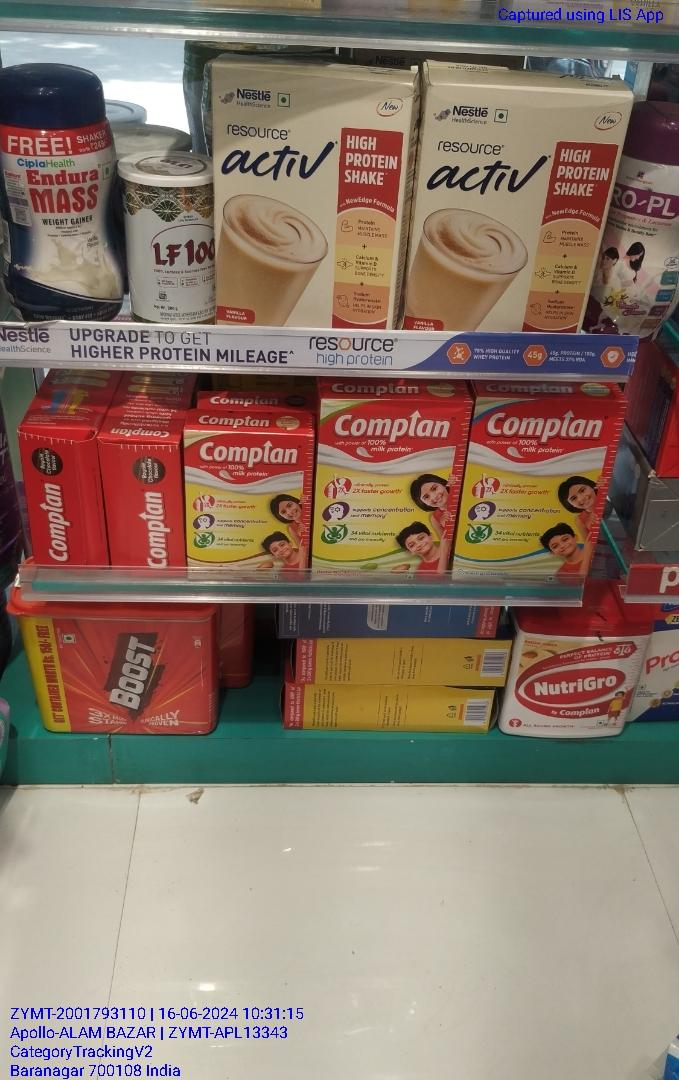COMPLAN_CREAMY_CLASSIC_500_G_PACK: (461, 396, 600, 581)
COMPLAN_KESAR_BADAM_200_GMS_PACK: (185, 430, 312, 581)
COMPLAN_PISTA_BADAM_500_GMS_PACK: (319, 397, 447, 579)
